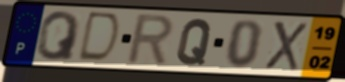0: (224, 18, 265, 71)
D: (74, 10, 123, 65)
Q: (35, 9, 83, 62), (175, 17, 215, 67)
R: (123, 13, 176, 68)
X: (262, 19, 309, 73)
